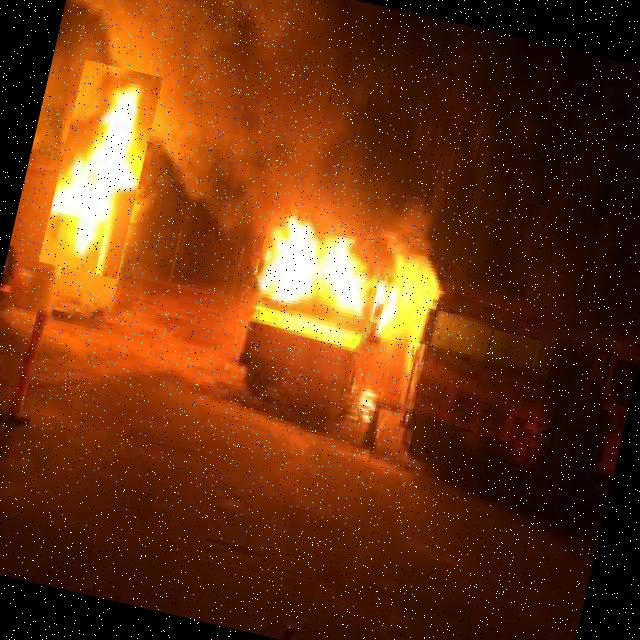fire: (39, 59, 162, 278), (248, 213, 388, 338)
